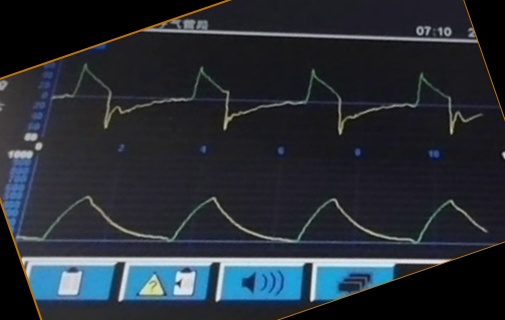Premature_cycling Flow: (69, 58, 482, 142)
Premature_cycling Volume: (33, 176, 482, 249)
